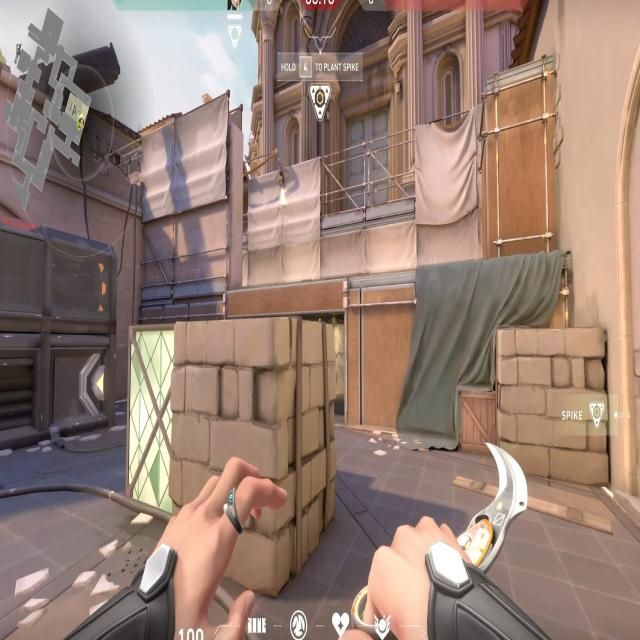A_Heaven_Box: (483, 50, 556, 262)
A_Heaven_Wall: (140, 127, 241, 296)
A_Site_Box: (127, 325, 336, 563)
